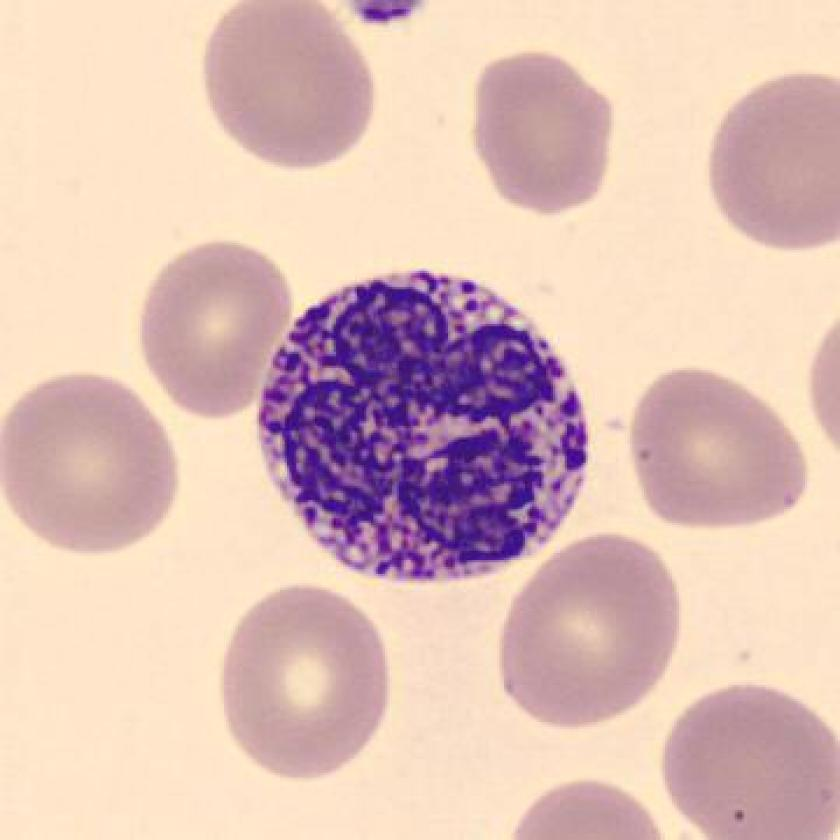basophil: (253, 265, 594, 586)
